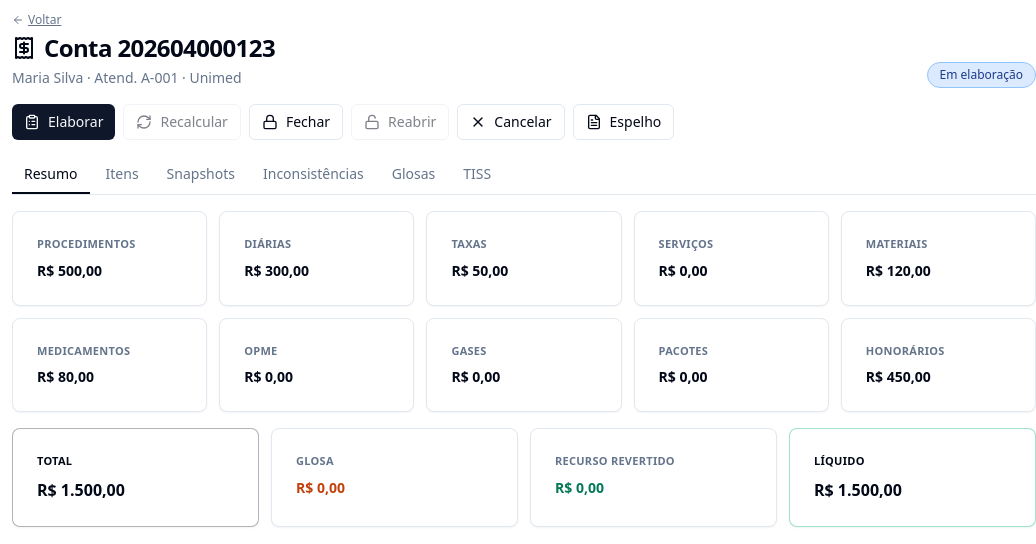
Test case: <ContaDetalhePage /> › alterna para tab "Itens" e mostra a tabela de itens
Expected: the heading "Conta 202604000123" is shown, [12, 32, 275, 64]
Click the tab "Itens": (122, 175) [94, 156, 151, 194]
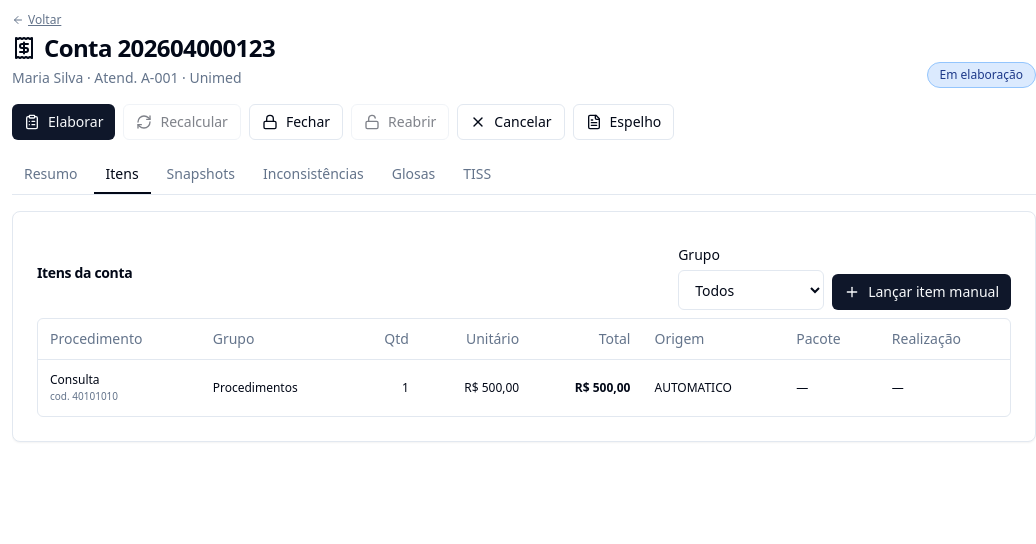
Expected: the table with test id "itens-tabela" is shown, [38, 319, 1010, 416]
Expected: the text "Consulta" is shown, [50, 370, 100, 388]
